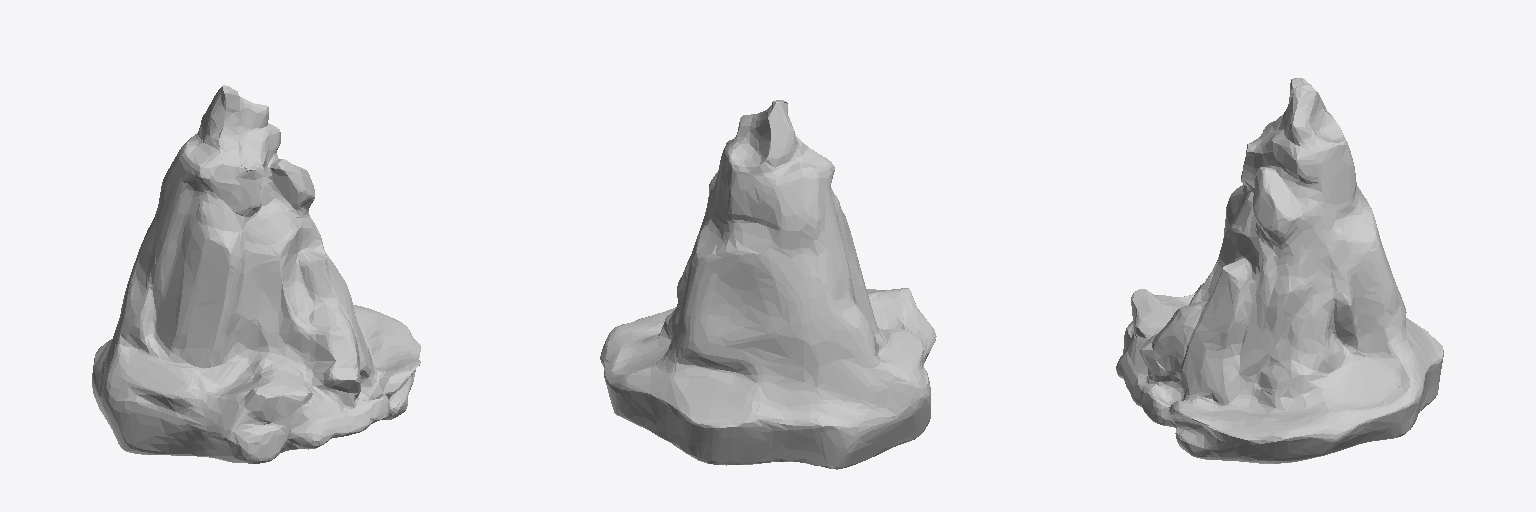
The model's file is Rock1.obj.
The picture shows the model from 3 angles: view 1: azimuth 30°, elevation 25°; view 2: azimuth 150°, elevation 25°; view 3: azimuth 270°, elevation 25°; orthographic projection.
Visible parts, largest first — view 1: Rock1:Mesh; view 2: Rock1:Mesh; view 3: Rock1:Mesh.
Part boxes in pixels (bbox=[...]): Rock1:Mesh: bbox=[92, 85, 420, 463]; Rock1:Mesh: bbox=[600, 100, 936, 469]; Rock1:Mesh: bbox=[1116, 78, 1443, 463].
Bounding box in the file's own units: 2.74 × 2.87 × 2.55.